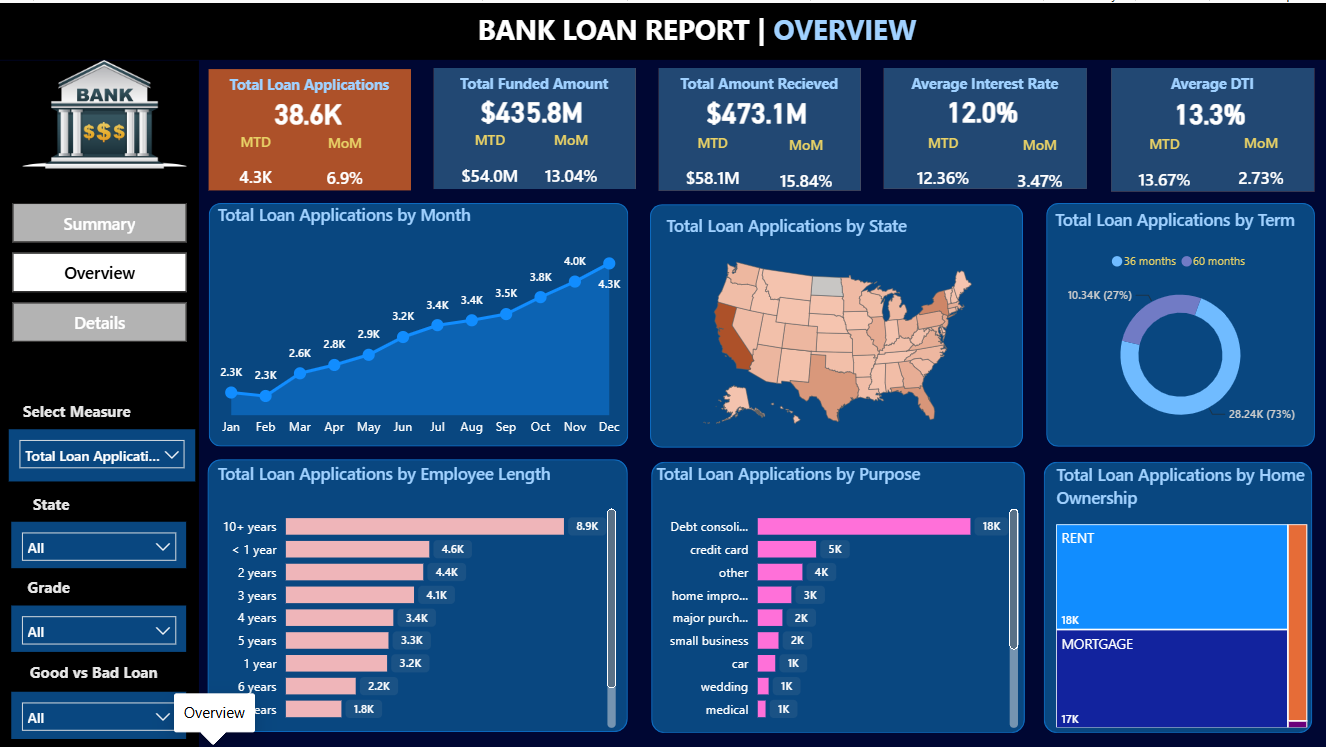

The dashboard page shown, as its layout file describes it:
{"tool":"powerbi","page":{"name":"Overview","canvas":[1280,720],"ordinal":1},"visuals":[{"type":"shape","box":[0,0,1280,54.9],"z":0},{"type":"shape","box":[419.4,63.1,195,117],"z":0,"group":"g2"},{"type":"shape","box":[636.9,63.1,195,118.4],"z":0,"group":"g3"},{"type":"shape","box":[853.7,63.1,196.1,116.6],"z":0,"group":"g4"},{"type":"shape","box":[1073.2,63.1,196.1,119.4],"z":0,"group":"g5"},{"type":"shape","box":[201.7,63.4,195,117],"z":0,"group":"g1"},{"type":"shape","box":[0,55.5,192,664.7],"z":1000},{"type":"textbox","box":[418,63.1,196.2,32.9],"z":1000,"group":"g2"},{"type":"textbox","box":[635.5,63.1,196.2,33.3],"z":1000,"group":"g3"},{"type":"textbox","box":[852.3,63.1,197.3,32.8],"z":1000,"group":"g4"},{"type":"textbox","box":[1071.8,63.1,197.3,33.6],"z":1000,"group":"g5"},{"type":"textbox","box":[200.3,63.4,196.2,32.9],"z":1000,"group":"g1"},{"type":"cardVisual","fields":{"Data":["bank_loan_data.Total Funded Amount"]},"box":[416.5,72,194.9,67.2],"z":2000,"group":"g2"},{"type":"cardVisual","fields":{"Data":["bank_loan_data.Average Int Rate"]},"box":[850.8,72,195.9,67],"z":2000,"group":"g4"},{"type":"cardVisual","fields":{"Data":["bank_loan_data.Total Amount Recieved"]},"box":[634,72.1,194.9,68],"z":2000,"group":"g3"},{"type":"cardVisual","fields":{"Data":["bank_loan_data.Avg DTI"]},"box":[1070.3,72.2,195.9,68.6],"z":2000,"group":"g5"},{"type":"cardVisual","fields":{"Data":["bank_loan_data.Total Loan Applications"]},"box":[200.3,75.7,194.9,60.4],"z":2000,"group":"g1"},{"type":"shape","box":[201.7,193.5,405,235],"z":2000},{"type":"textbox","box":[455.6,2.7,437.7,48],"z":3000},{"type":"cardVisual","title":"MTD","fields":{"Data":["bank_loan_data.MTD Loan Applications"]},"box":[211.3,123.8,71.4,54.9],"z":3000,"group":"g1"},{"type":"group","id":"g1","title":"Group 1","box":[200.3,63.4,196.4,117],"z":4000},{"type":"cardVisual","title":"MoM","fields":{"Data":["bank_loan_data.MOM Loan Applications"]},"box":[293.6,125.1,79.6,54.9],"z":4000,"group":"g1"},{"type":"group","id":"g2","title":"Group 1","box":[416.5,63.1,197.6,116.6],"z":5000},{"type":"cardVisual","title":"MoM","fields":{"Data":["bank_loan_data.MOM Funded Amount"]},"box":[503.6,123.5,96.1,54.9],"z":6000},{"type":"group","id":"g3","title":"Group 1","box":[634,63.1,197.6,118],"z":7000},{"type":"cardVisual","title":"MoM","fields":{"Data":["bank_loan_data.MOM Amount Recieved"]},"box":[730,127.6,96.1,54.9],"z":8000},{"type":"cardVisual","title":"MTD","fields":{"Data":["bank_loan_data.MTD Funded amount"]},"box":[424,123.5,98.8,54.9],"z":9000},{"type":"cardVisual","title":"MTD","fields":{"Data":["bank_loan_data.MTD Amount Recieved"]},"box":[640.8,125.4,94.4,54.9],"z":10000},{"type":"group","id":"g4","title":"Group 1","box":[850.8,63.1,199,116.6],"z":11000},{"type":"cardVisual","title":"MTD","fields":{"Data":["bank_loan_data.MTD Avg Int Rates"]},"box":[864.5,124.9,90.6,54.9],"z":12000},{"type":"cardVisual","title":"MoM","fields":{"Data":["bank_loan_data.MOM Avg Int Rate"]},"box":[955.1,127.6,96.1,54.9],"z":13000},{"type":"group","id":"g5","title":"Group 1","box":[1070.3,63.1,199,119.4],"z":14000},{"type":"cardVisual","title":"MTD","fields":{"Data":["bank_loan_data.MTD Avg DTI"]},"box":[1078.6,126.2,90.6,54.9],"z":15000},{"type":"cardVisual","title":"MoM","fields":{"Data":["bank_loan_data.MOM Avg DTI"]},"box":[1169.1,124.9,96.1,54.9],"z":16000},{"type":"slicer","fields":{"Values":["bank_loan_data.address_state"]},"box":[10.9,500.7,168.9,44.6],"z":17000},{"type":"textbox","box":[10.9,468.1,77.2,32.6],"z":18000},{"type":"slicer","fields":{"Values":["bank_loan_data.grade"]},"box":[10.9,581.5,168.9,44.6],"z":19000},{"type":"textbox","box":[8.4,548.9,77.2,32.6],"z":20000},{"type":"slicer","fields":{"Values":["bank_loan_data.Good v/s Bad Loan"]},"box":[10.9,664.7,168.9,45.8],"z":21000},{"type":"textbox","box":[12.1,631,156.8,32.6],"z":22000},{"type":"areaChart","fields":{"Y":["bank_loan_data.Total Loan Applications"],"Category":["Date Table.Month"]},"box":[205.6,193,401.4,233.8],"z":23000},{"type":"slicer","fields":{"Values":["Select Measure.Select Measure"]},"box":[8.4,411.4,179.8,50.7],"z":24000},{"type":"textbox","box":[10.9,378.8,126.7,32.6],"z":25000},{"type":"shape","box":[626.9,194,360,235],"z":26000},{"type":"shapeMap","fields":{"Value":["bank_loan_data.Total Loan Applications"],"Category":["bank_loan_data.address_state"]},"box":[638,204.2,340.8,215.5],"z":27000},{"type":"shape","box":[1009.8,193,259.4,235.3],"z":28000},{"type":"donutChart","fields":{"Y":["bank_loan_data.Total Loan Applications"],"Category":["bank_loan_data.term"]},"box":[1013.4,197.9,252.1,224.4],"z":29000},{"type":"shape","box":[200,440.8,405.6,263.4],"z":30000},{"type":"barChart","fields":{"Y":["bank_loan_data.Total Loan Applications"],"Category":["bank_loan_data.emp_length"]},"box":[205.6,442.3,394.4,262],"z":31000},{"type":"shape","box":[628.2,442.3,360.6,262],"z":32000},{"type":"barChart","fields":{"Y":["bank_loan_data.Total Loan Applications"],"Category":["bank_loan_data.purpose"]},"box":[628.2,442.3,359.2,262],"z":33000},{"type":"shape","box":[1007,442.3,259.2,262],"z":34000},{"type":"treemap","fields":{"Values":["bank_loan_data.Total Loan Applications"],"Group":["bank_loan_data.home_ownership"]},"box":[1014.1,443.7,252.1,260.6],"z":35000},{"type":"pageNavigator","box":[12.1,193,168.9,136.3],"z":36000},{"type":"image","box":[21.7,35,158,144.8],"z":37000}]}

Visuals, with their boxes in screenshot pixels (x1, y1, x2, y2), scaled from the page's 1280x720 canvas onto the 1326x747 screenshot:
shape: l=0, t=0, r=1325, b=57
shape: l=434, t=65, r=636, b=187
shape: l=660, t=65, r=862, b=188
shape: l=884, t=65, r=1088, b=186
shape: l=1112, t=65, r=1315, b=189
shape: l=209, t=66, r=411, b=187
shape: l=0, t=58, r=199, b=746
textbox: l=433, t=65, r=636, b=100
textbox: l=658, t=65, r=862, b=100
textbox: l=883, t=65, r=1087, b=99
textbox: l=1110, t=65, r=1315, b=100
textbox: l=207, t=66, r=411, b=100
cardVisual - bank_loan_data.Total Funded Amount: l=431, t=75, r=633, b=144
cardVisual - bank_loan_data.Average Int Rate: l=881, t=75, r=1084, b=144
cardVisual - bank_loan_data.Total Amount Recieved: l=657, t=75, r=859, b=145
cardVisual - bank_loan_data.Avg DTI: l=1109, t=75, r=1312, b=146
cardVisual - bank_loan_data.Total Loan Applications: l=207, t=79, r=409, b=141
shape: l=209, t=201, r=629, b=445
textbox: l=472, t=3, r=925, b=53
"MTD" cardVisual: l=219, t=128, r=293, b=185
"Group 1" group: l=207, t=66, r=411, b=187
"MoM" cardVisual: l=304, t=130, r=387, b=187
"Group 1" group: l=431, t=65, r=636, b=186
"MoM" cardVisual: l=522, t=128, r=621, b=185
"Group 1" group: l=657, t=65, r=861, b=188
"MoM" cardVisual: l=756, t=132, r=856, b=189
"MTD" cardVisual: l=439, t=128, r=542, b=185
"MTD" cardVisual: l=664, t=130, r=762, b=187
"Group 1" group: l=881, t=65, r=1088, b=186
"MTD" cardVisual: l=896, t=130, r=989, b=187
"MoM" cardVisual: l=989, t=132, r=1089, b=189
"Group 1" group: l=1109, t=65, r=1315, b=189
"MTD" cardVisual: l=1117, t=131, r=1211, b=188
"MoM" cardVisual: l=1211, t=130, r=1311, b=187
slicer - bank_loan_data.address_state: l=11, t=519, r=186, b=566
textbox: l=11, t=486, r=91, b=519
slicer - bank_loan_data.grade: l=11, t=603, r=186, b=650
textbox: l=9, t=569, r=89, b=603
slicer - bank_loan_data.Good v/s Bad Loan: l=11, t=690, r=186, b=737
textbox: l=13, t=655, r=175, b=688
areaChart - bank_loan_data.Total Loan Applications x Date Table.Month: l=213, t=200, r=629, b=443
slicer - Select Measure.Select Measure: l=9, t=427, r=195, b=479
textbox: l=11, t=393, r=143, b=427
shape: l=649, t=201, r=1022, b=445
shapeMap - bank_loan_data.Total Loan Applications x bank_loan_data.address_state: l=661, t=212, r=1014, b=435
shape: l=1046, t=200, r=1315, b=444
donutChart - bank_loan_data.Total Loan Applications x bank_loan_data.term: l=1050, t=205, r=1311, b=438
shape: l=207, t=457, r=627, b=731
barChart - bank_loan_data.Total Loan Applications x bank_loan_data.emp_length: l=213, t=459, r=622, b=731
shape: l=651, t=459, r=1024, b=731
barChart - bank_loan_data.Total Loan Applications x bank_loan_data.purpose: l=651, t=459, r=1023, b=731
shape: l=1043, t=459, r=1312, b=731
treemap - bank_loan_data.Total Loan Applications x bank_loan_data.home_ownership: l=1051, t=460, r=1312, b=731
pageNavigator: l=13, t=200, r=188, b=342
image: l=22, t=36, r=186, b=187
